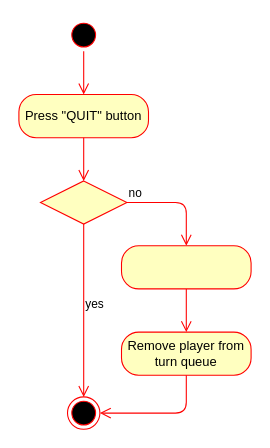
This 270x448 diagram has some shape labels left out. The shapes that lost their labels are listed below. From the top down, each one's centre as x and y in pixels, then its label:
At (x=83, y=202): "Confirm".
At (x=185, y=267): "Remove player's robots from game board".
